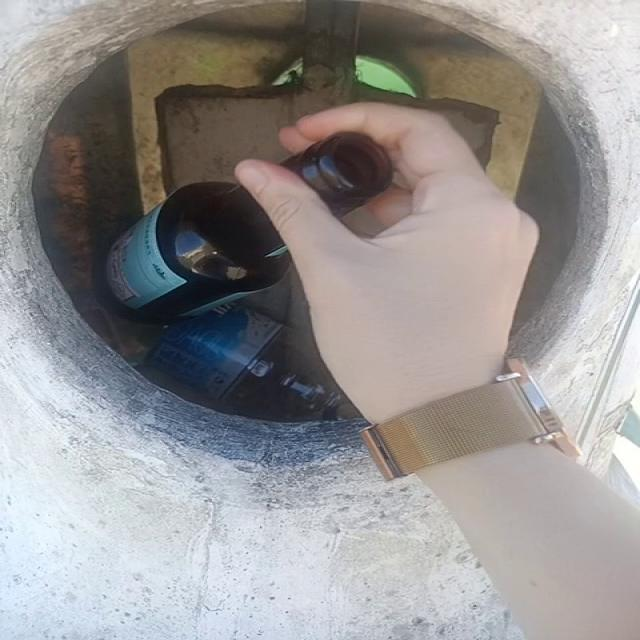glass: (107, 182, 287, 320), (281, 133, 392, 216)
